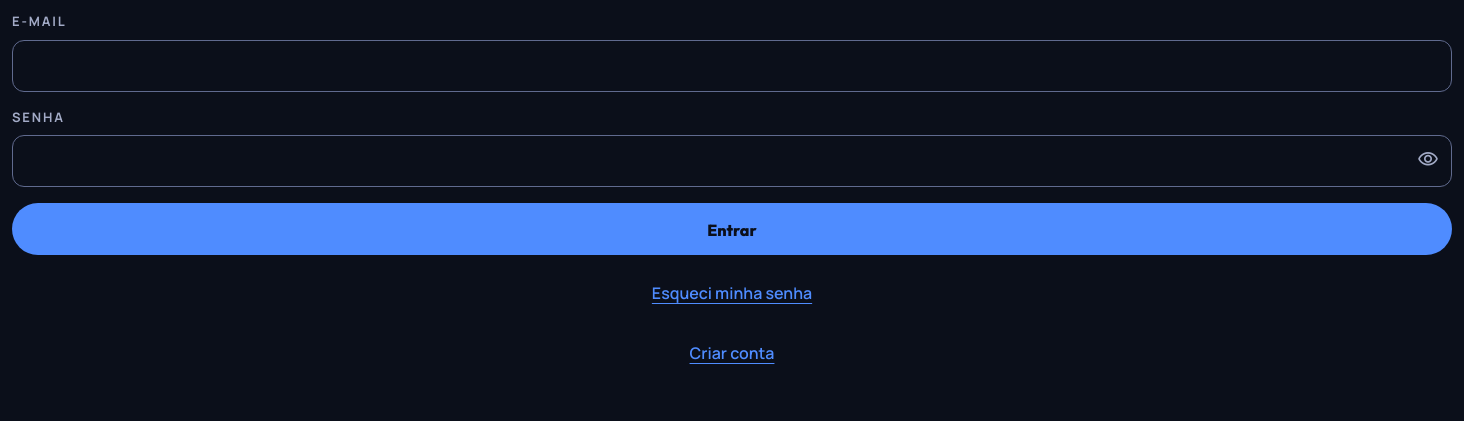
Test: LoginForm — envio › sem conexão: mensagem própria, e a senha também é limpa
The width and height of the screenshot is (1464, 421).
Type "ana@exemplo.com" into the field labelled "E-mail" at (732, 66), box 12,40 -> 1452,92
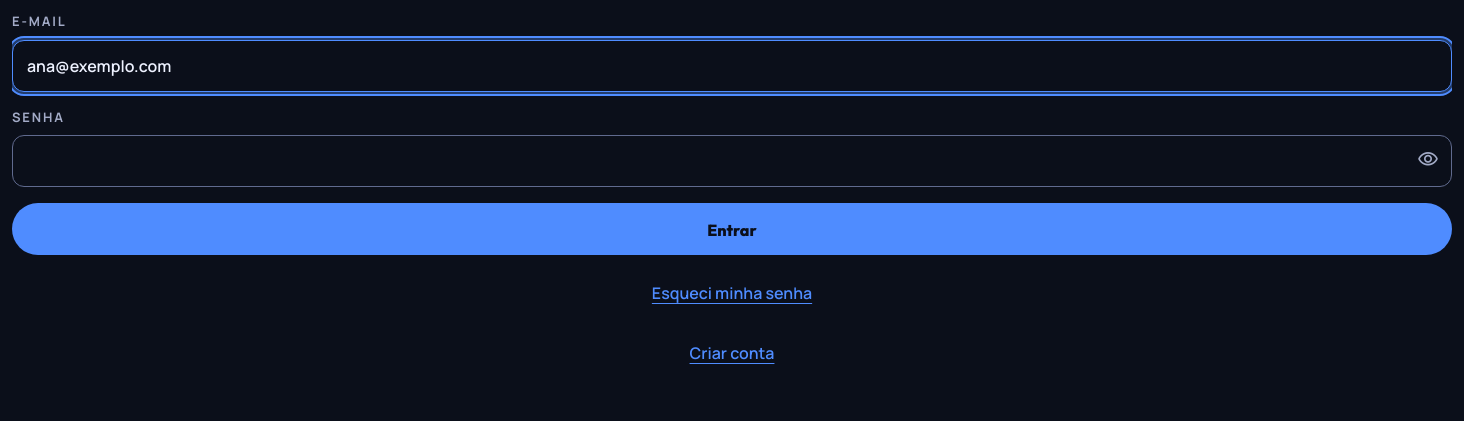
Type "segredo-forte" into the password field labelled "Senha" at (732, 161), box 12,135 -> 1452,187
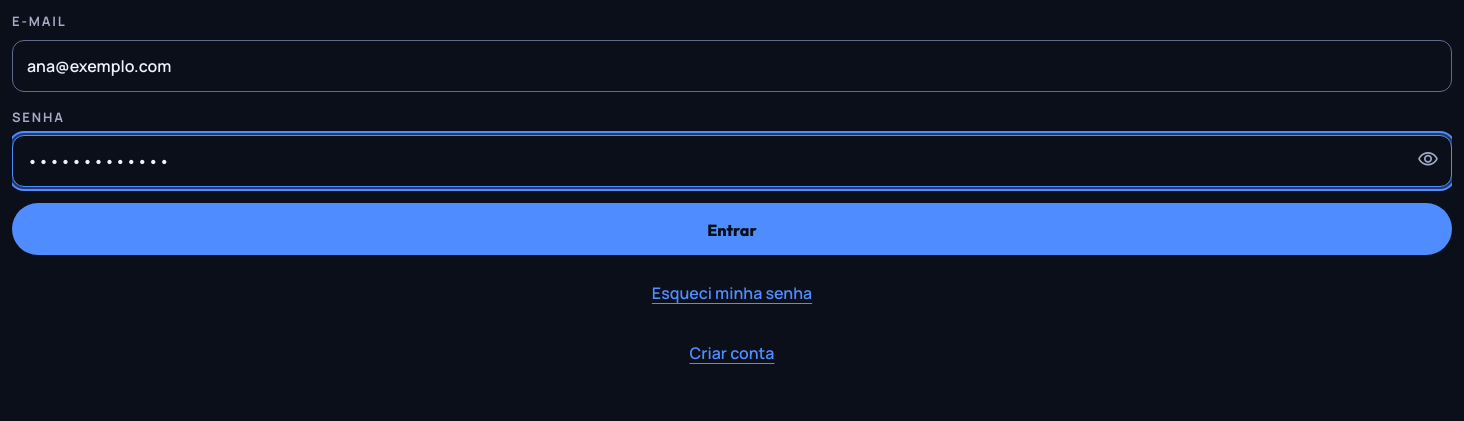
Click the button "Entrar" at (732, 229), box 12,203 -> 1452,255
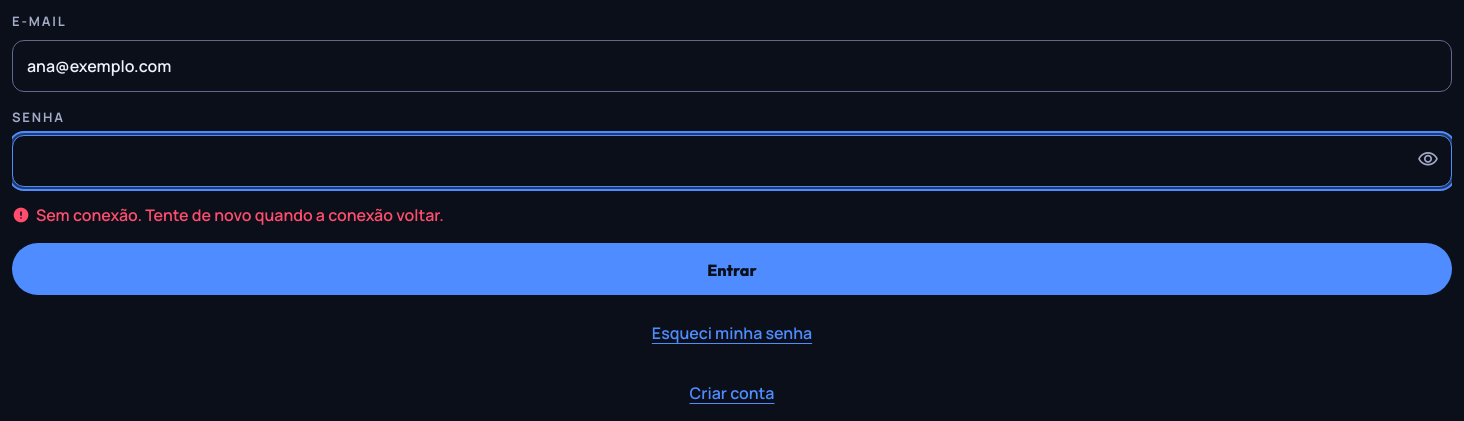
Expected: the text "Sem conexão. Tente de novo quando a conexão voltar." is shown, 12,204 -> 444,226
